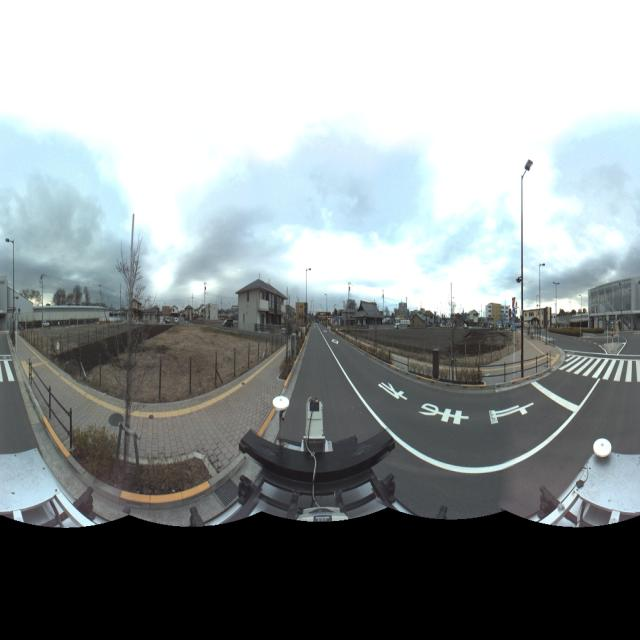b_1: (580, 277, 640, 351), (237, 277, 286, 341), (346, 296, 384, 338), (483, 292, 514, 334), (519, 303, 557, 337)
